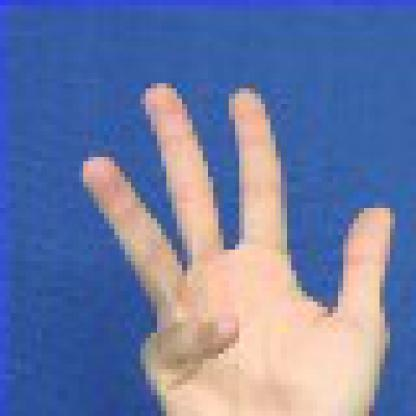nine: (41, 21, 410, 411)
